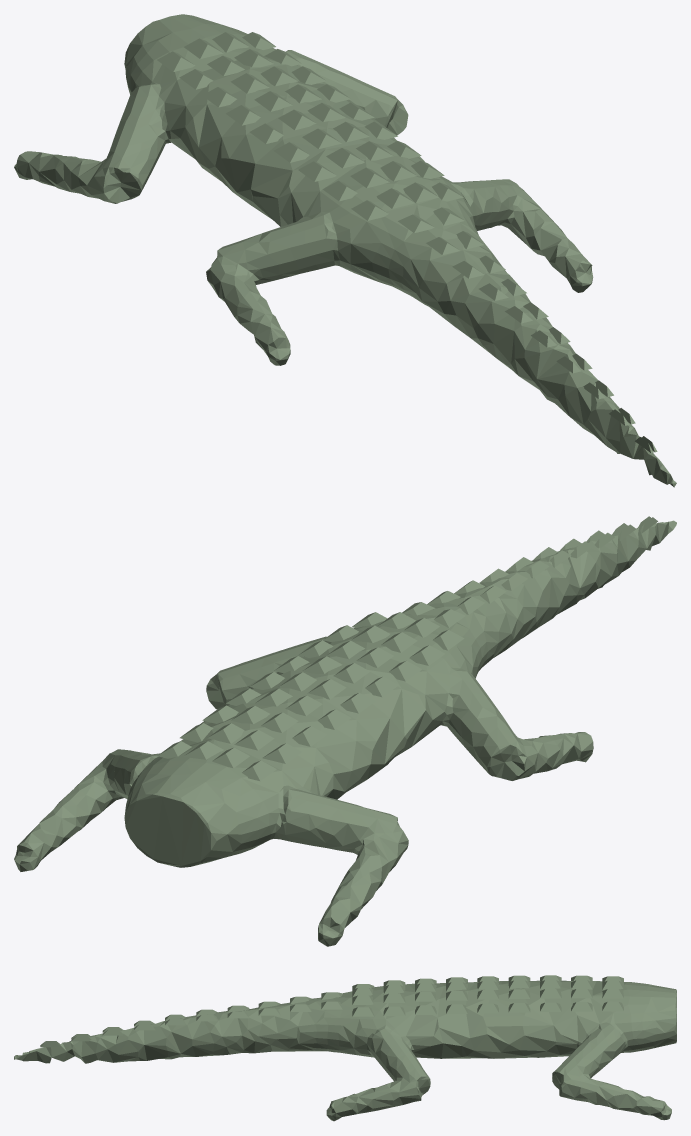
Rendered from croc_body_01.glb.
3 renders of one model, top to bottom at view 1: azimuth 30°, elevation 25°; view 2: azimuth 150°, elevation 25°; view 3: azimuth 270°, elevation 25°, orthographic. The views are drawn at different scales.
Parts seen in each view (by area): view 1: ConnectedBodyTailLimbs; view 2: ConnectedBodyTailLimbs; view 3: ConnectedBodyTailLimbs.
Boxes of the visible parts, <box> form: ConnectedBodyTailLimbs: <box>14,14,676,487</box>; ConnectedBodyTailLimbs: <box>14,520,676,946</box>; ConnectedBodyTailLimbs: <box>14,980,676,1121</box>.
Bounding box in the file's own units: 0.9667 × 0.3777 × 2.6.
